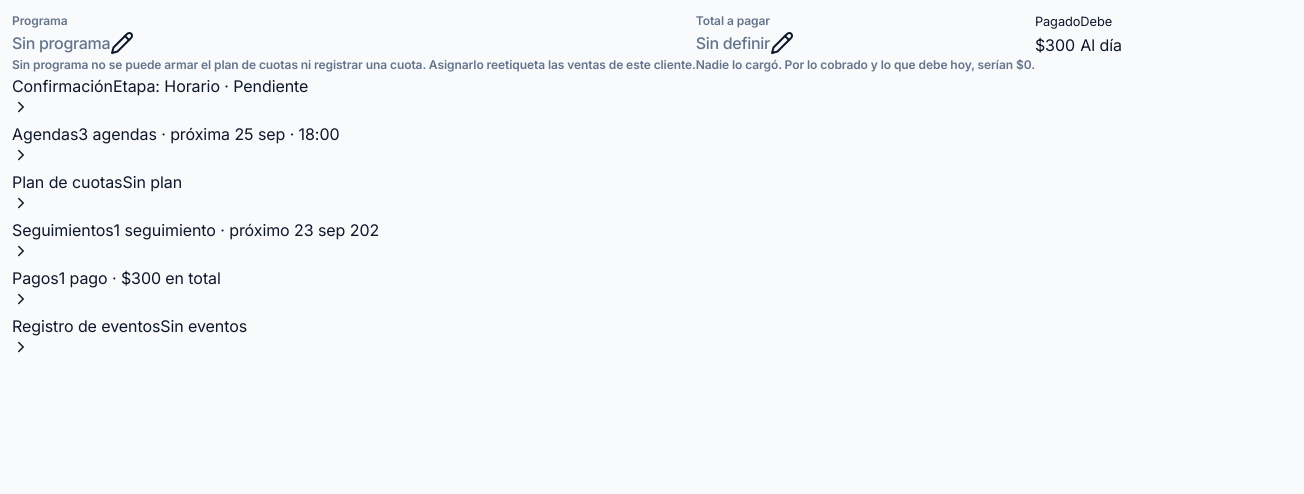
Test: las ventas en la sección Pagos › con más de una venta, la fila dice de cuál es el pago
Click the button "Pagos1 pago · $300 en total" at {"x": 116, "y": 287}, box [12,266,221,308]
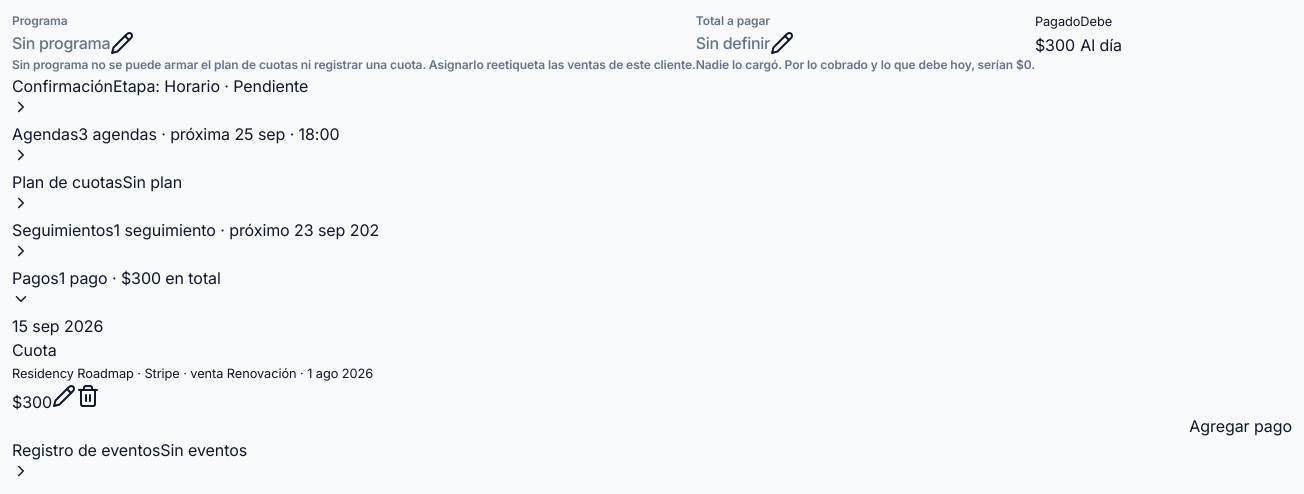
Now the text "Residency Roadmap · Stripe · venta Renovación · 1 ago 2026" is shown, box [12,366,373,381]
